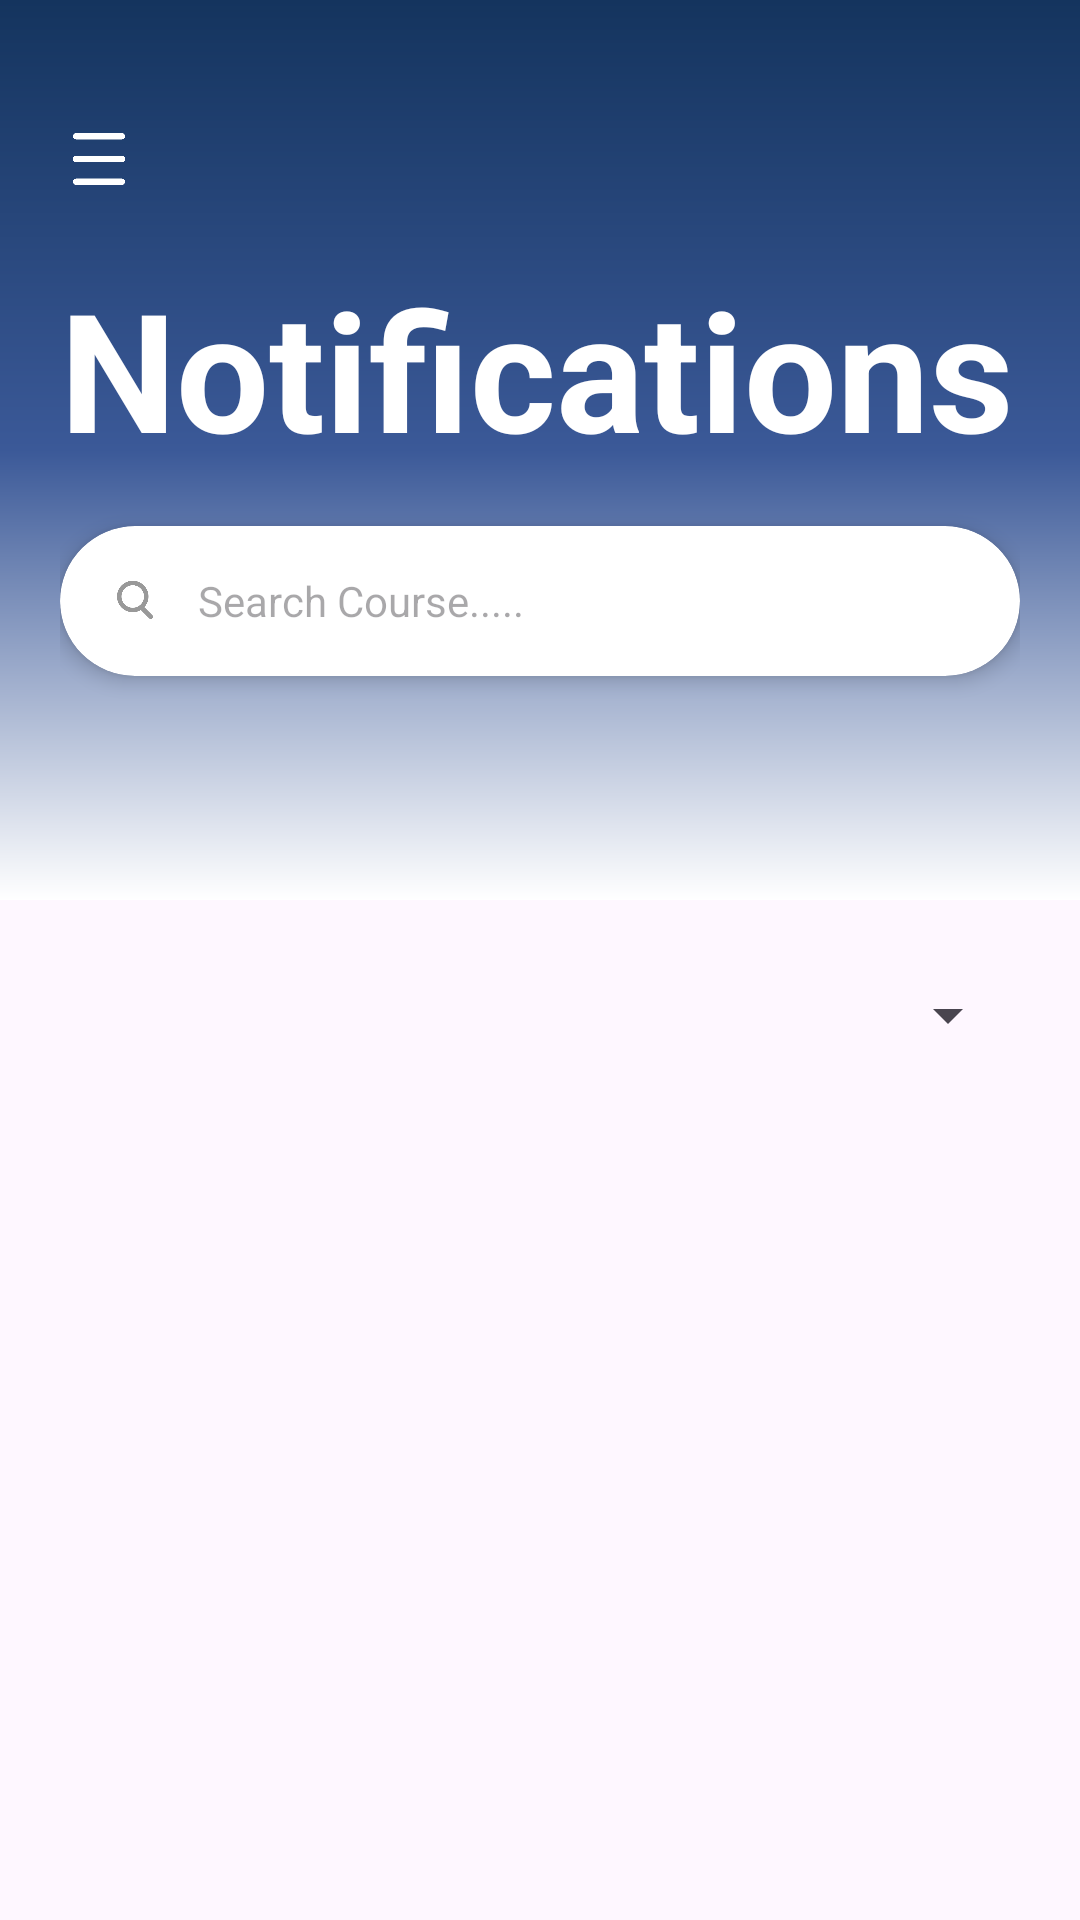

Where icons sit on this 1080×1920 app screen, as bbox=[x1, y1, x2, y2]:
menu: bbox=[73, 133, 125, 185]
